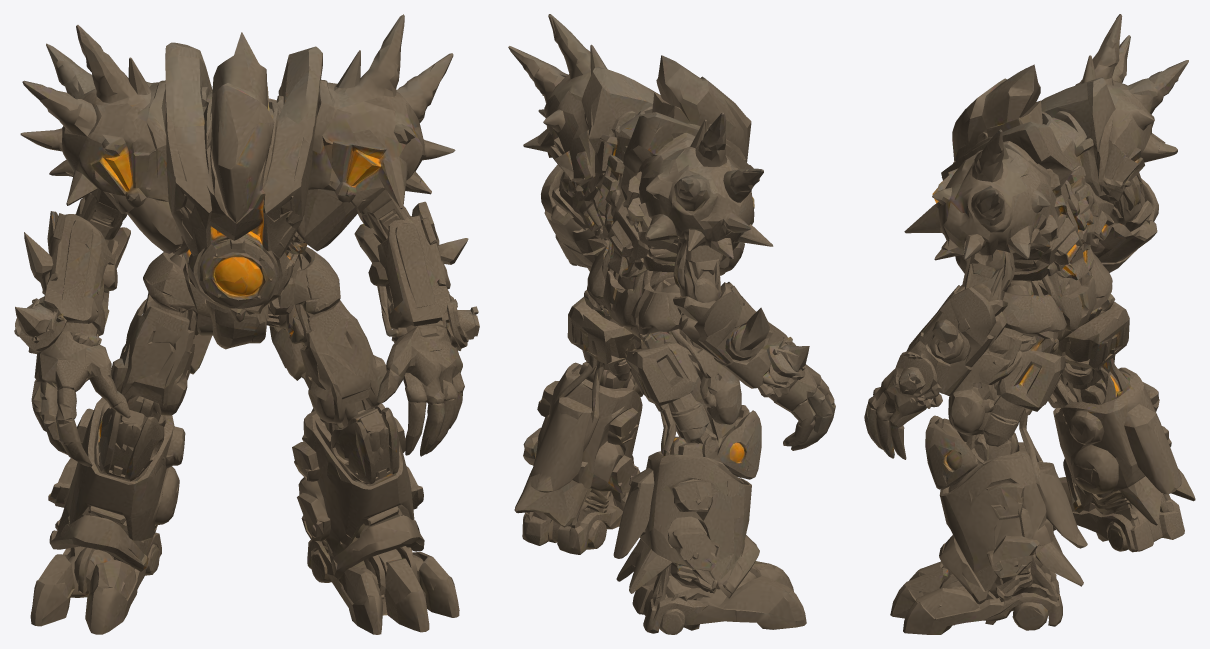
Rendered from raid_niv.glb.
3 views of the same model, side by side, from view 1: azimuth 30°, elevation 25°; view 2: azimuth 150°, elevation 25°; view 3: azimuth 270°, elevation 25° (orthographic). The views are drawn at different scales.
Size of the model in its own units: 1.35 by 1.9 by 1.13.
Materials: 1 (1 with a texture image).
